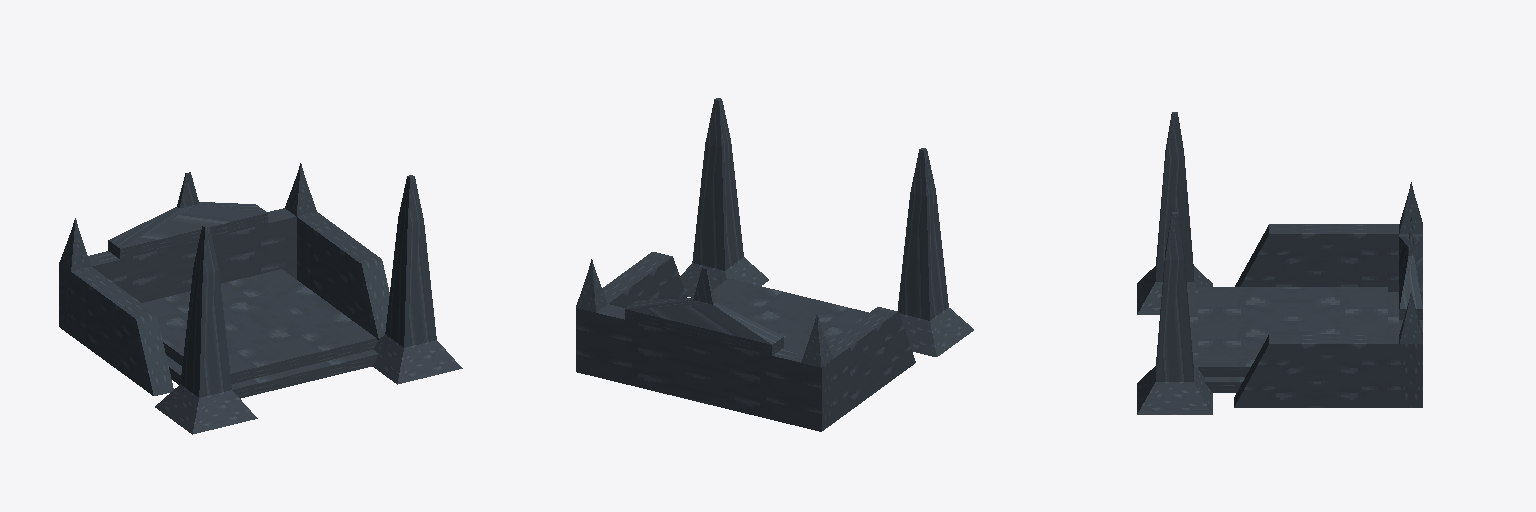
3 renders of one model, left to right at view 1: azimuth 30°, elevation 25°; view 2: azimuth 150°, elevation 25°; view 3: azimuth 270°, elevation 25°, orthographic.
Visible parts, largest first — view 1: Teleport_Cube.014; view 2: Teleport_Cube.014; view 3: Teleport_Cube.014.
Part boxes in pixels (bbox=[...]): Teleport_Cube.014: bbox=[59, 163, 462, 434]; Teleport_Cube.014: bbox=[576, 98, 973, 431]; Teleport_Cube.014: bbox=[1137, 112, 1422, 414].
Bounding box in the file's own units: 2.85 × 1.88 × 2.61.
1 materials, 1 textured.